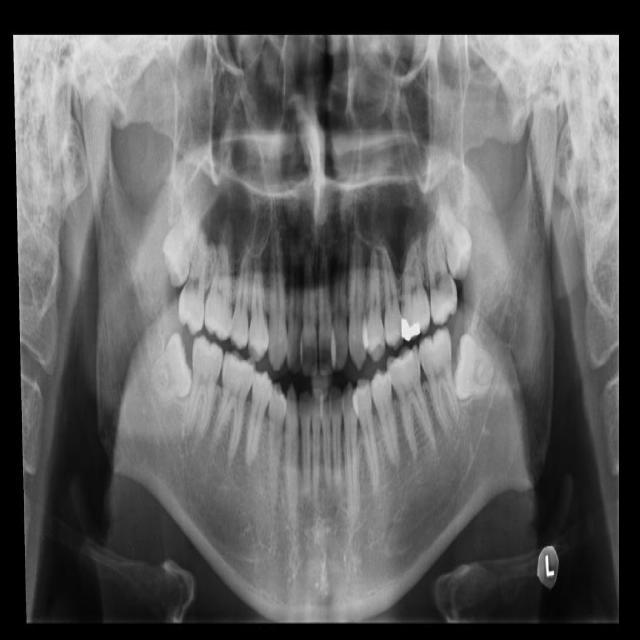3M ESPE Implant: (157, 197, 198, 289)
52: (401, 290, 431, 343)
73: (599, 588, 608, 596)
BioHorizons Implant: (423, 218, 460, 328)
BioLife Implant: (430, 200, 482, 282)
Biomet 3i Implant: (449, 332, 499, 405)
Blue Sky Bio Implant: (415, 324, 462, 435)
Caries: (177, 231, 209, 335)
Implant: (183, 333, 226, 440)
Keystone Dental Implant: (144, 331, 197, 403)
